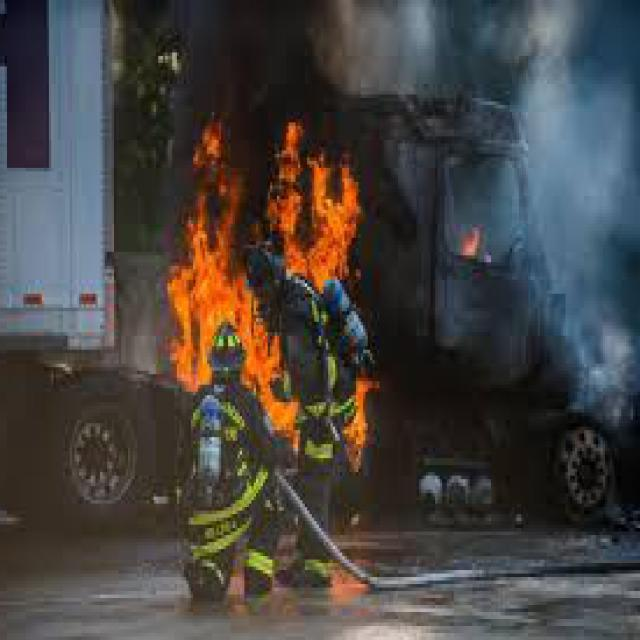Fire: (168, 110, 374, 390), (454, 215, 498, 255)
Smoke: (342, 0, 636, 425)
